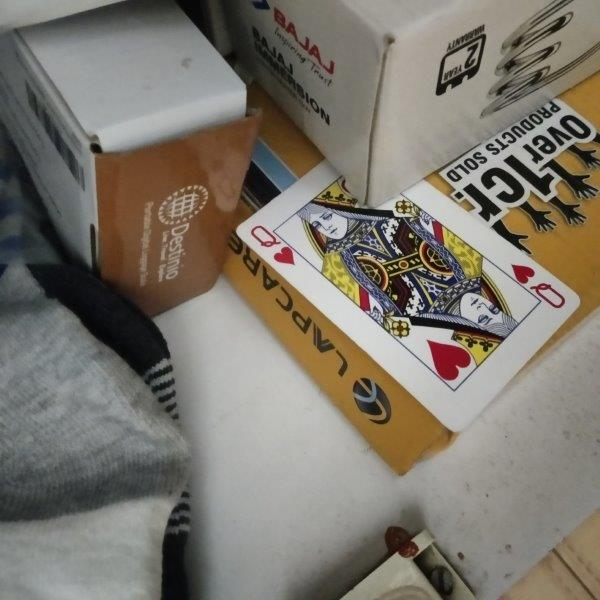Queen of Hearts: (236, 158, 581, 433)
